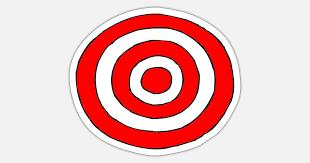target_red: (68, 6, 241, 155)
